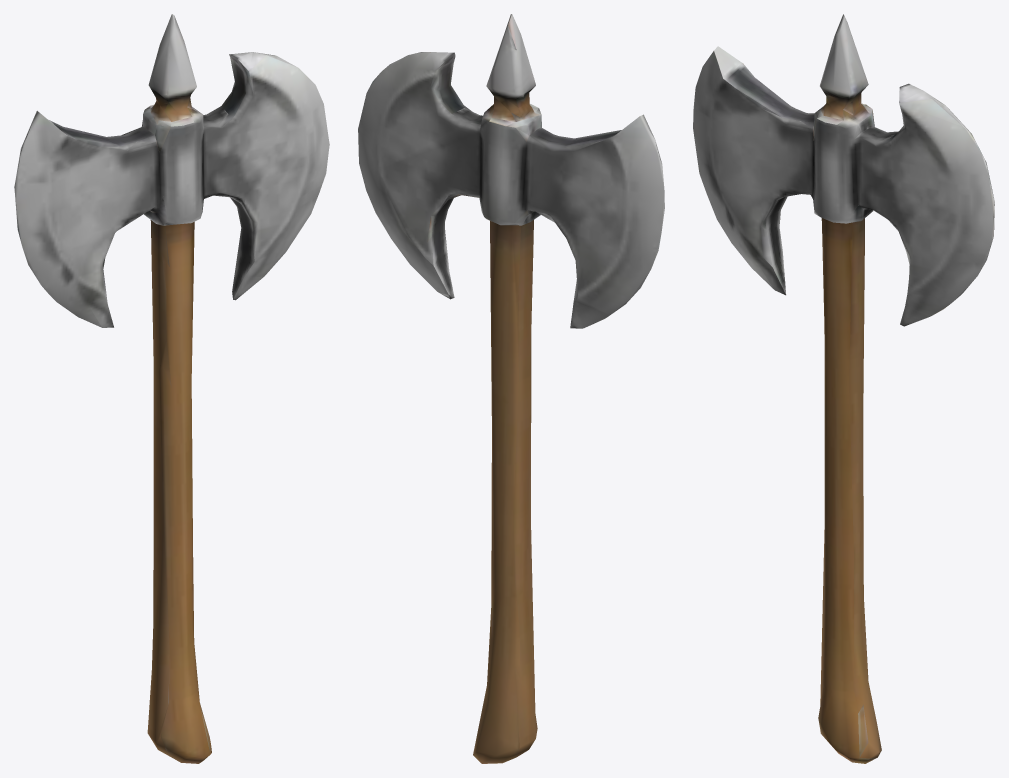
Rendered from wpn_axe.glb.
The picture shows the model from 3 angles, left to right: view 1: azimuth 30°, elevation 25°; view 2: azimuth 150°, elevation 25°; view 3: azimuth 330°, elevation 25°; orthographic projection.
Bounding box in the file's own units: 0.8645 × 2 × 0.1425.
Materials: 1 (1 with a texture image).
